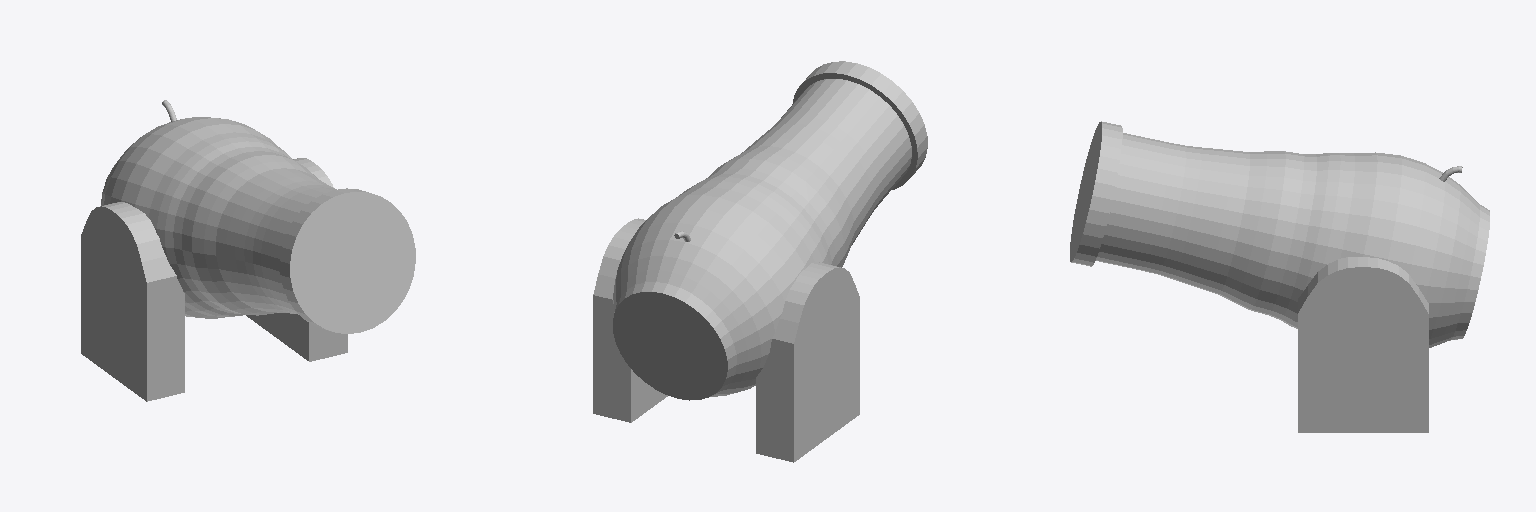
The model's file is cannon.obj.
3 renders of one model, left to right at view 1: azimuth 30°, elevation 25°; view 2: azimuth 150°, elevation 25°; view 3: azimuth 270°, elevation 25°, orthographic.
Visible parts, largest first — view 1: Cylinder, Cube_Cube.001; view 2: Cylinder, Cube_Cube.001; view 3: Cylinder, Cube_Cube.001.
Boxes of the visible parts, <box> form: Cylinder: <box>101,117,415,333</box>; Cube_Cube.001: <box>81,158,347,401</box>; Cylinder: <box>613,61,927,400</box>; Cube_Cube.001: <box>593,218,859,462</box>; Cylinder: <box>1070,121,1489,347</box>; Cube_Cube.001: <box>1298,257,1428,432</box>.
Bounding box in the file's own units: 3.54 × 4.3 × 6.42.